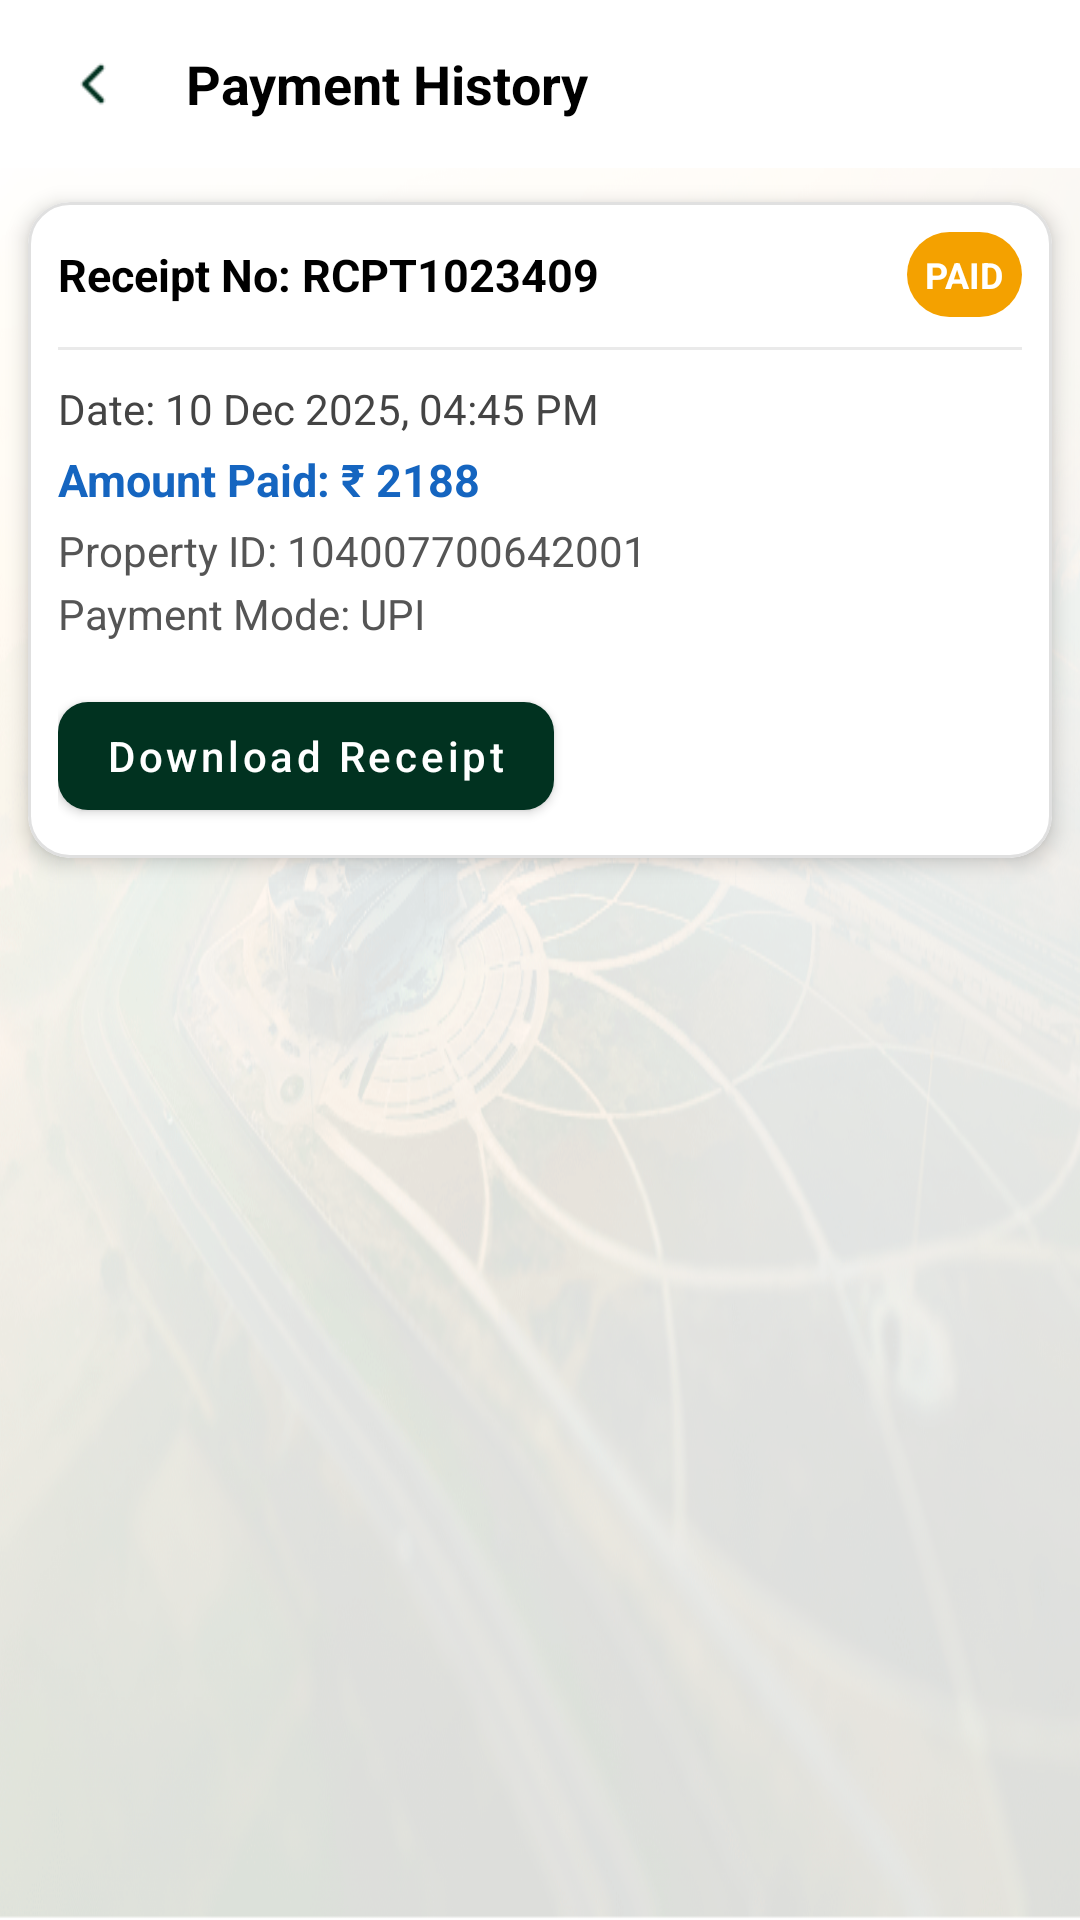

Locate icon controls on the screen. Image size 1080 x 1920, boxes as (x1, y1, x2, y2).
left: (81, 64, 105, 105)
